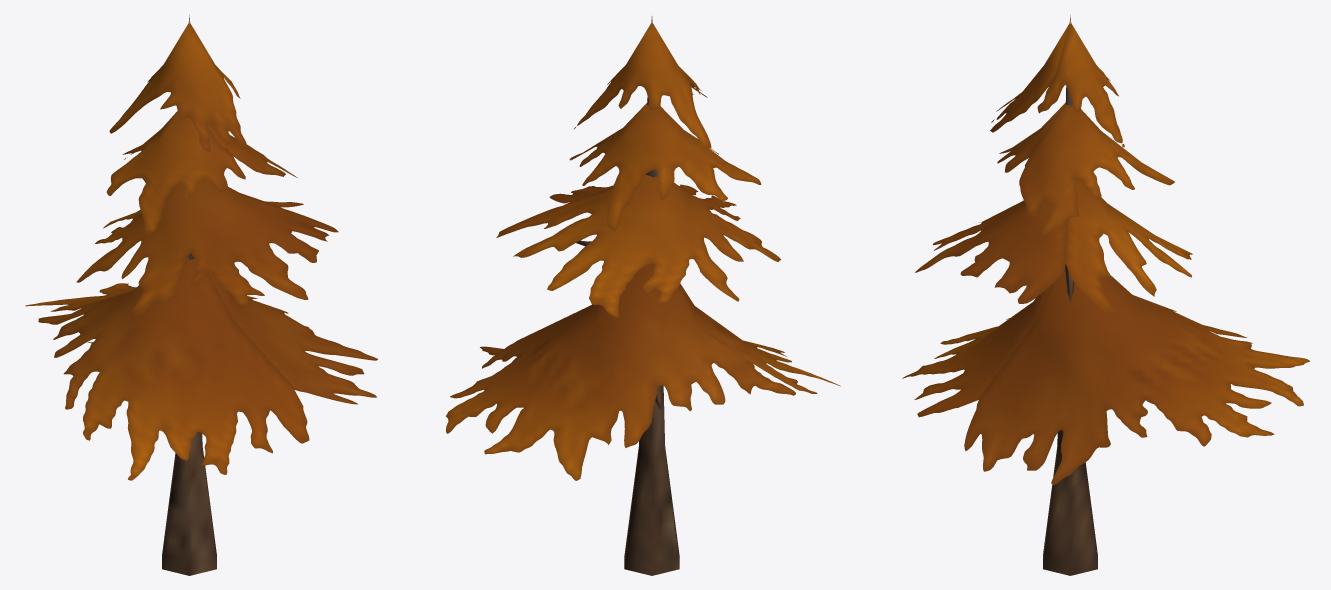
File: new_tree_red_3.FBX
3 views of the same model, side by side, from view 1: azimuth 30°, elevation 25°; view 2: azimuth 150°, elevation 25°; view 3: azimuth 270°, elevation 25° (orthographic).
Visible parts, largest first — view 1: new_tree_red_3; view 2: new_tree_red_3; view 3: new_tree_red_3.
Part boxes in pixels (x1,y1,x2,y2): new_tree_red_3: (25, 14, 377, 575); new_tree_red_3: (446, 16, 840, 575); new_tree_red_3: (902, 15, 1309, 575).
Size of the model in its own units: 42.06 by 66.37 by 47.63.
1 material, 1 textured.
